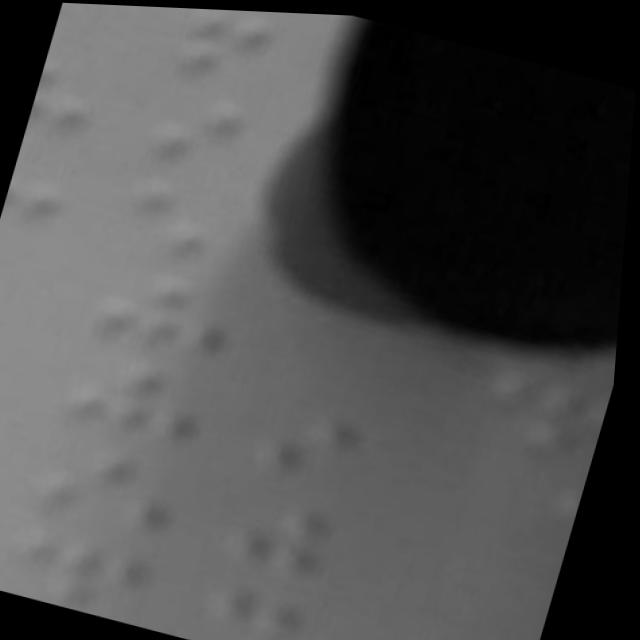braiile: (253, 386, 451, 518), (221, 489, 421, 614), (84, 252, 272, 382), (59, 342, 244, 467), (31, 427, 213, 554), (136, 78, 326, 196), (2, 514, 188, 630), (108, 168, 287, 284), (458, 344, 620, 466), (161, 6, 349, 107), (202, 574, 396, 640)
